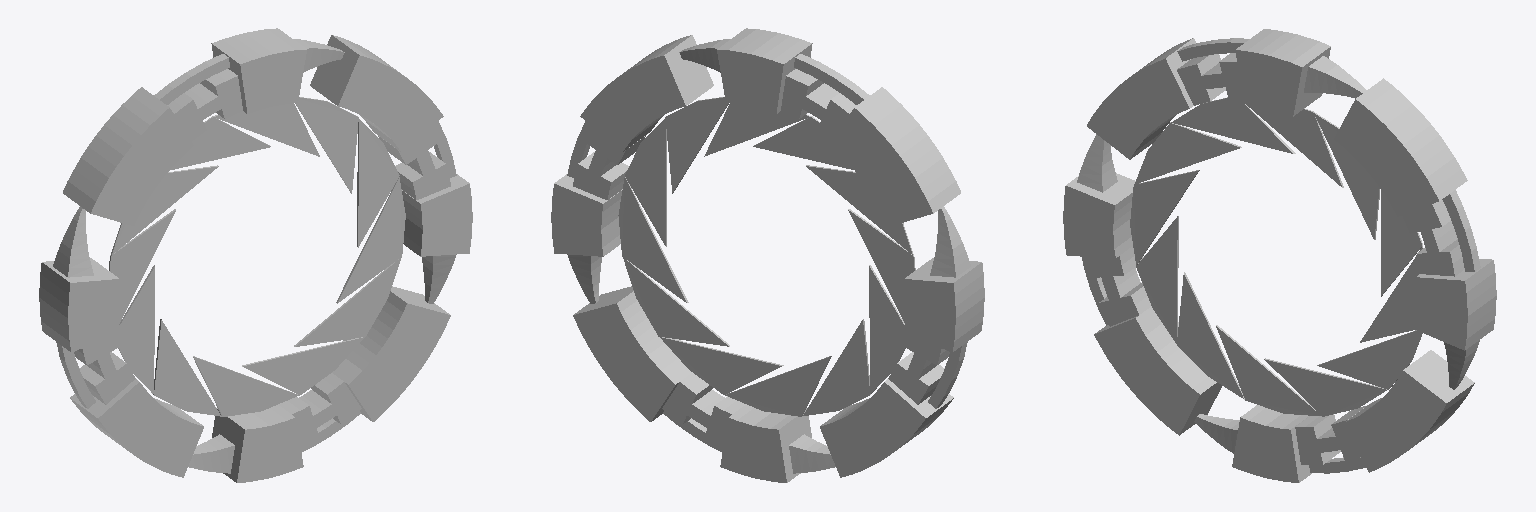
File: AccelerateGate.obj
The picture shows the model from 3 angles: view 1: azimuth 30°, elevation 25°; view 2: azimuth 150°, elevation 25°; view 3: azimuth 330°, elevation 25°; orthographic projection.
Parts seen in each view (by area): view 1: 立方体, 平面; view 2: 立方体, 平面; view 3: 立方体, 平面.
Boxes of the visible parts, x1,y1,x2,y2 form: 立方体: [39, 28, 472, 482]; 平面: [109, 97, 405, 416]; 立方体: [551, 28, 984, 482]; 平面: [618, 97, 915, 416]; 立方体: [1063, 29, 1496, 482]; 平面: [1130, 97, 1423, 416].
Size of the model in its own units: 4.05 by 4.05 by 0.5.